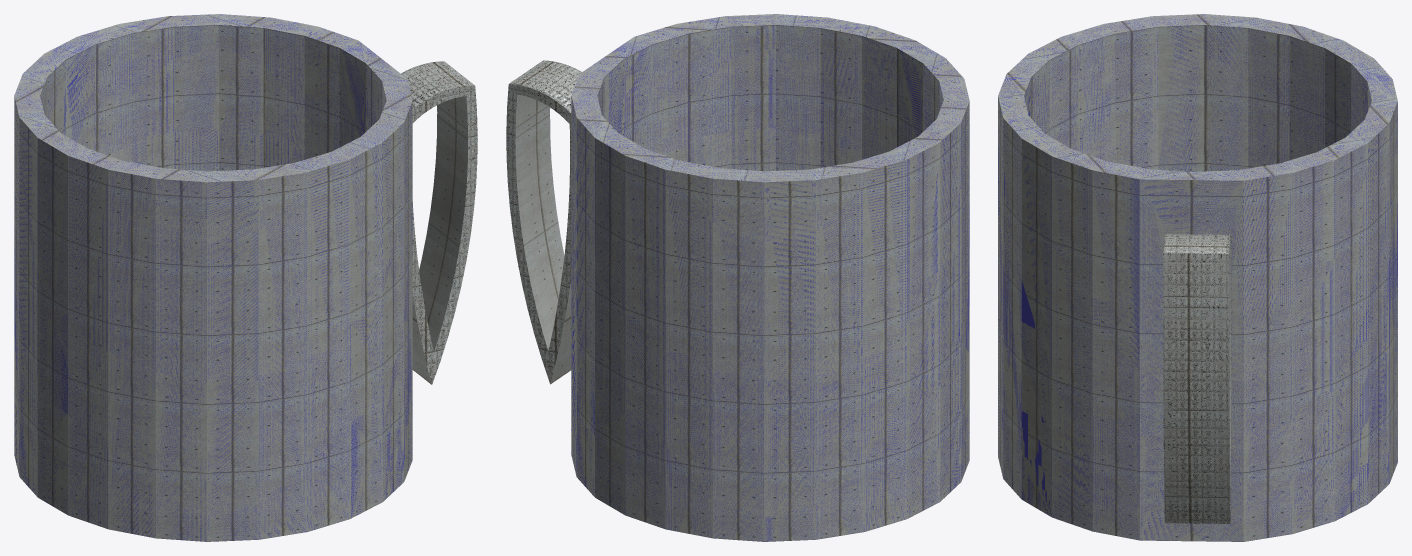
3 renders of one model, left to right at view 1: azimuth 30°, elevation 25°; view 2: azimuth 150°, elevation 25°; view 3: azimuth 270°, elevation 25°, orthographic.
Visible parts, largest first — view 1: mesh1_mesh1-geometry, mesh2_mesh2-geometry; view 2: mesh1_mesh1-geometry, mesh2_mesh2-geometry; view 3: mesh1_mesh1-geometry, mesh2_mesh2-geometry.
Boxes of the visible parts, <box> form: mesh1_mesh1-geometry: <box>14,14,412,541</box>; mesh2_mesh2-geometry: <box>401,61,477,384</box>; mesh1_mesh1-geometry: <box>571,14,969,541</box>; mesh2_mesh2-geometry: <box>506,60,581,384</box>; mesh1_mesh1-geometry: <box>998,14,1397,541</box>; mesh2_mesh2-geometry: <box>1163,234,1231,523</box>.
Bounding box in the file's own units: 0.6542 × 0.5339 × 0.5357.
